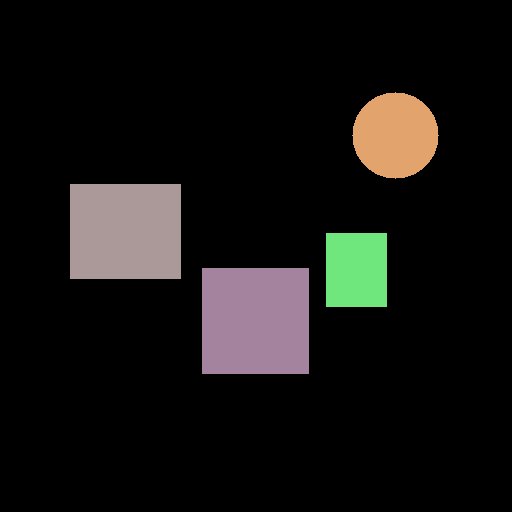circle: (352, 92, 438, 178)
rectangle: (70, 184, 180, 278), (326, 233, 386, 306)
square: (202, 268, 308, 373)
